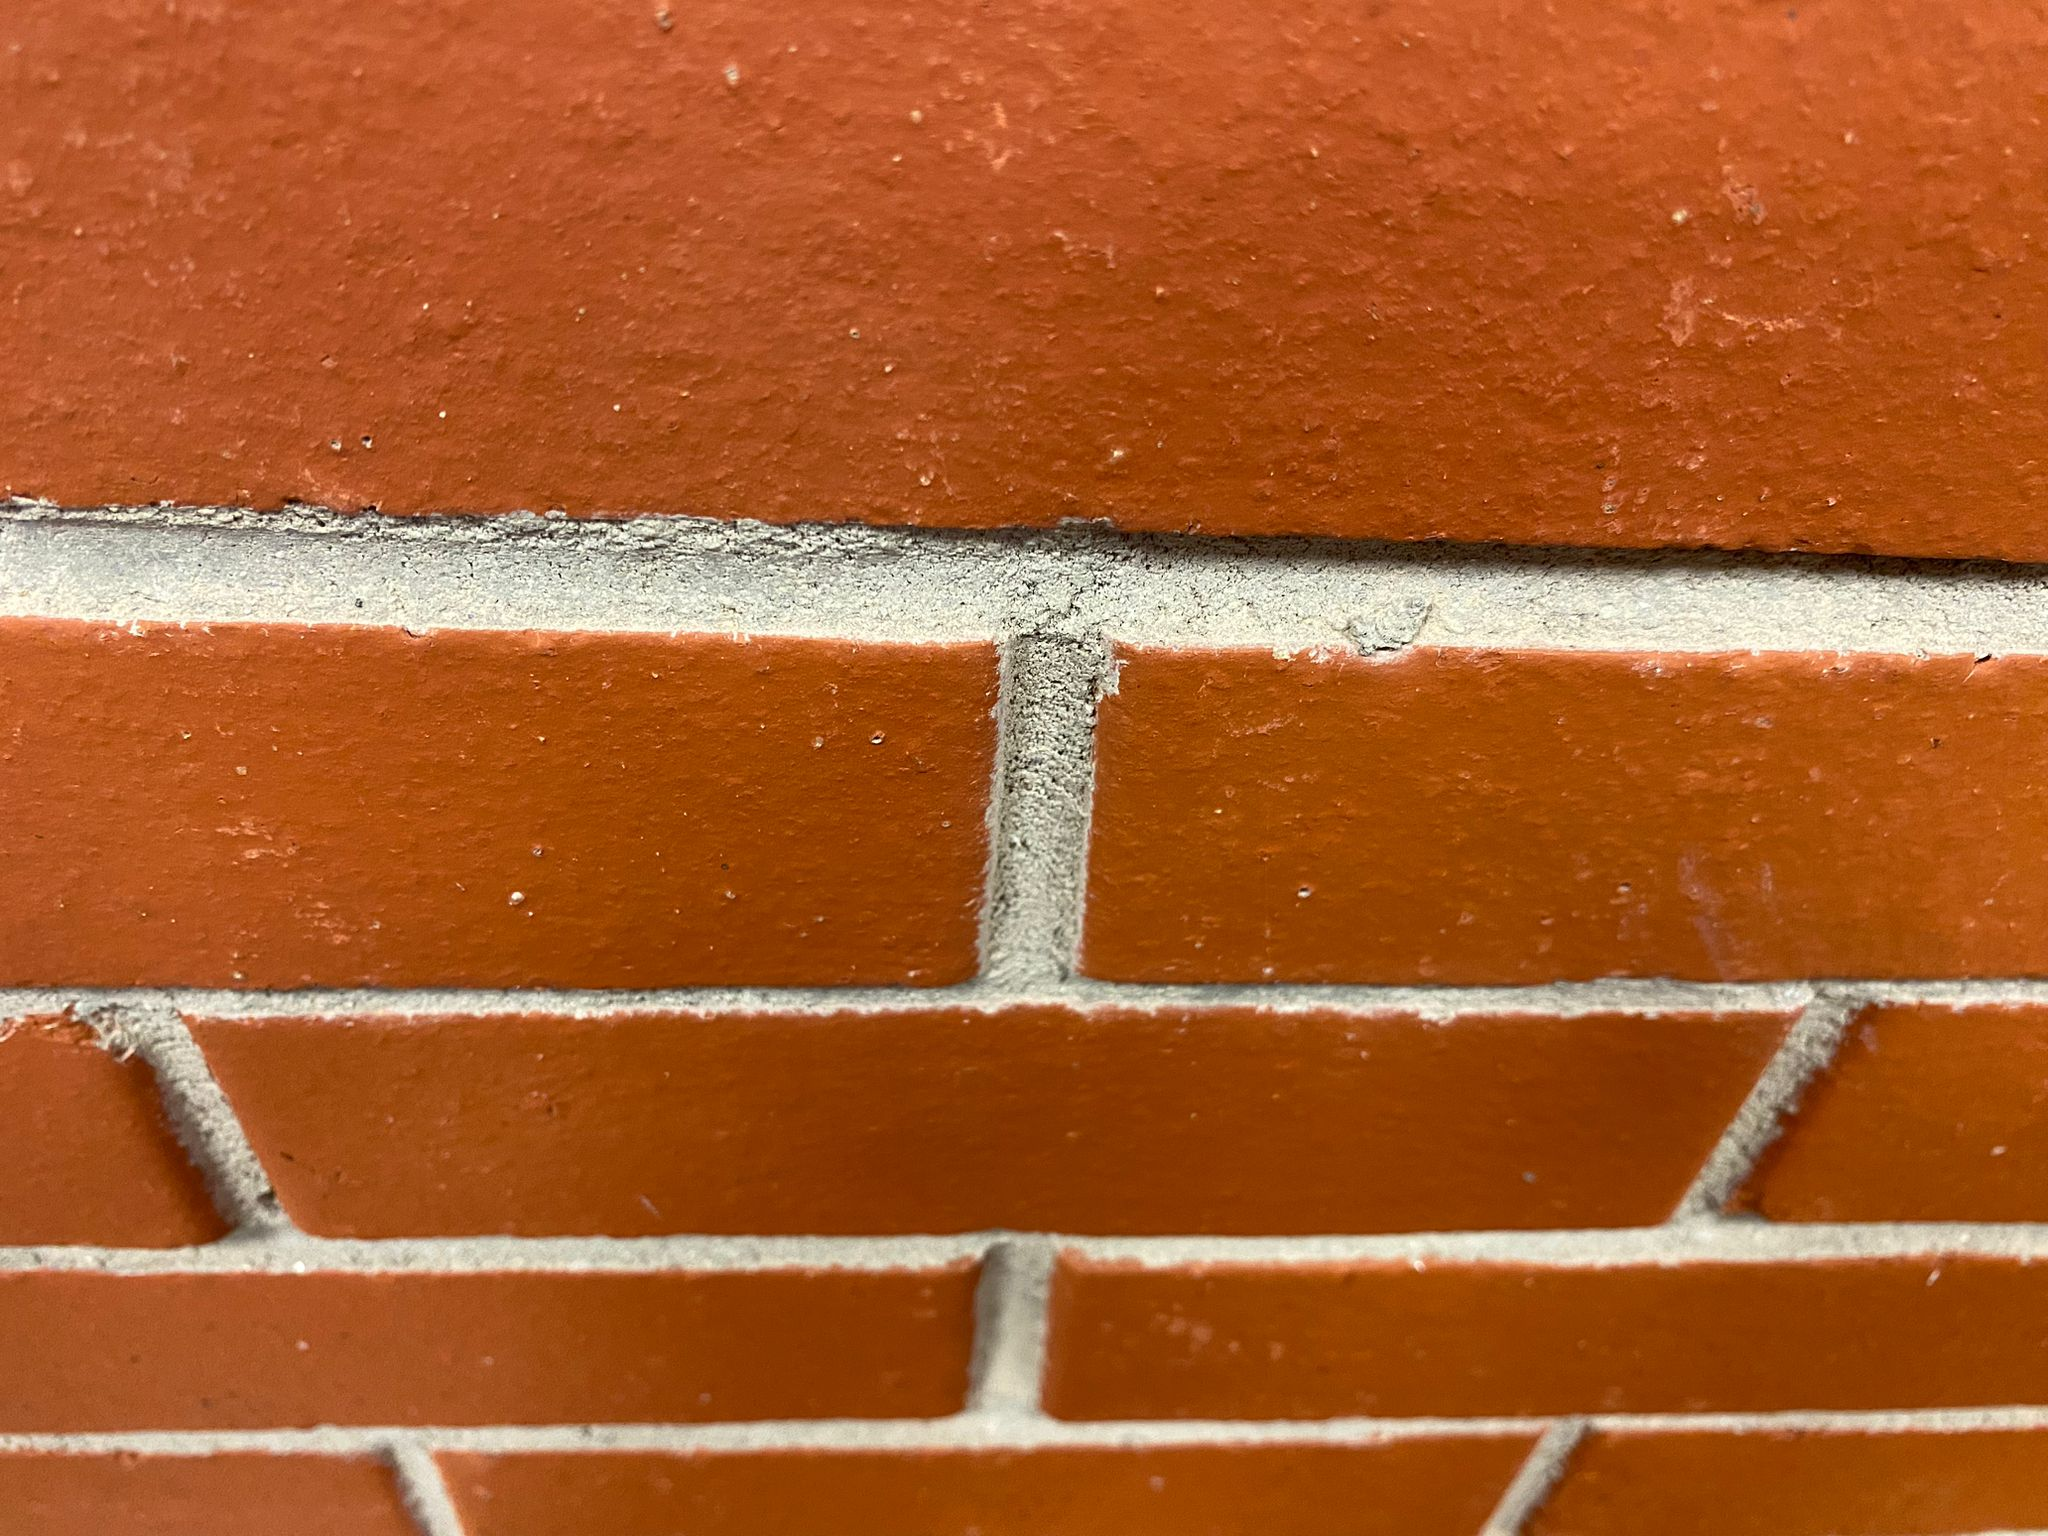redbrick: (10, 2, 2048, 557), (135, 983, 1804, 1254), (2, 607, 1080, 1016), (1068, 595, 2048, 1021), (2, 1258, 1011, 1449), (1048, 1263, 2048, 1430)
